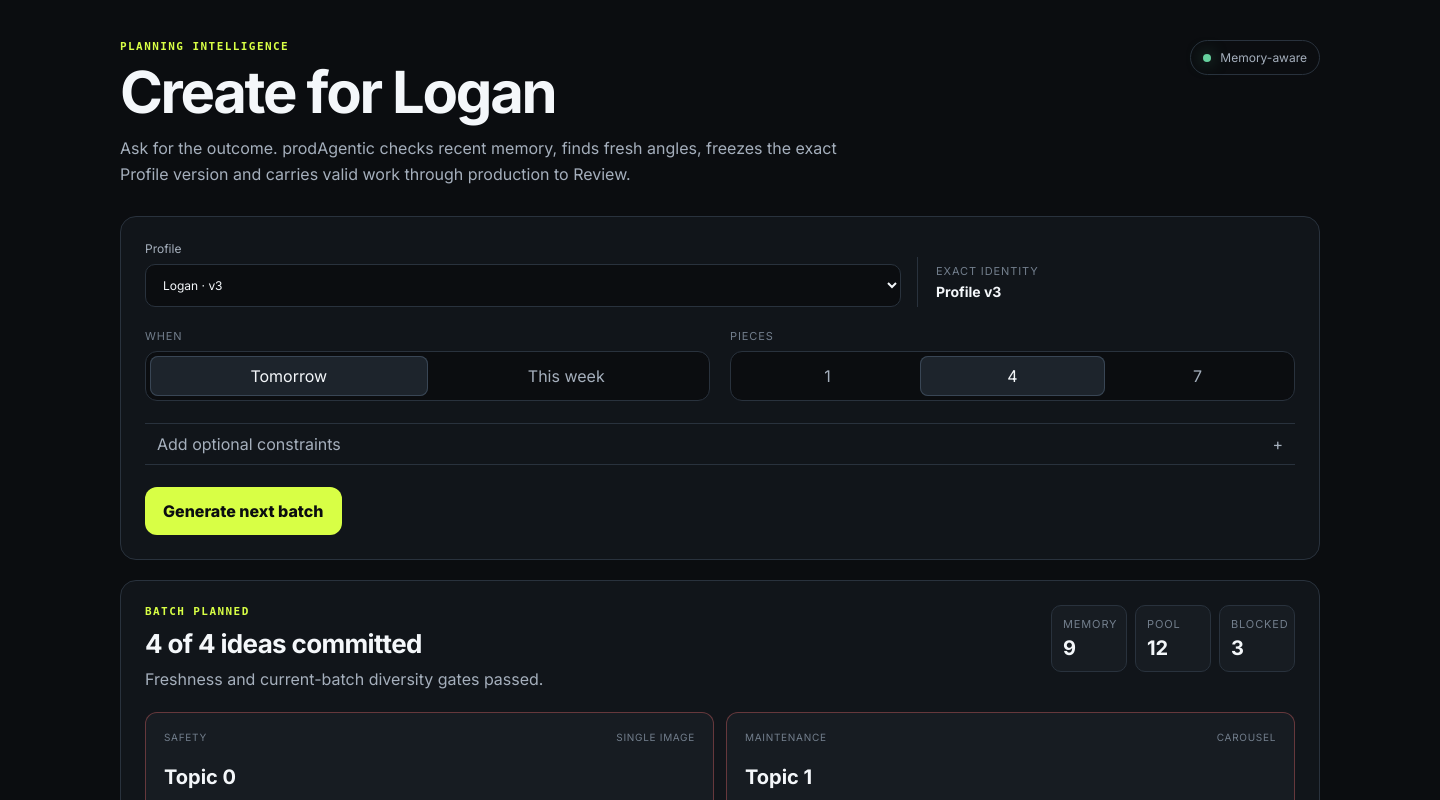
Test case: releases pending state, keeps the server error, and replaces the old misleading global retry with per-piece recovery
Step 1. Click the button "Generate next batch" → (243, 510), box [145,486,342,534]
(page scrolled)
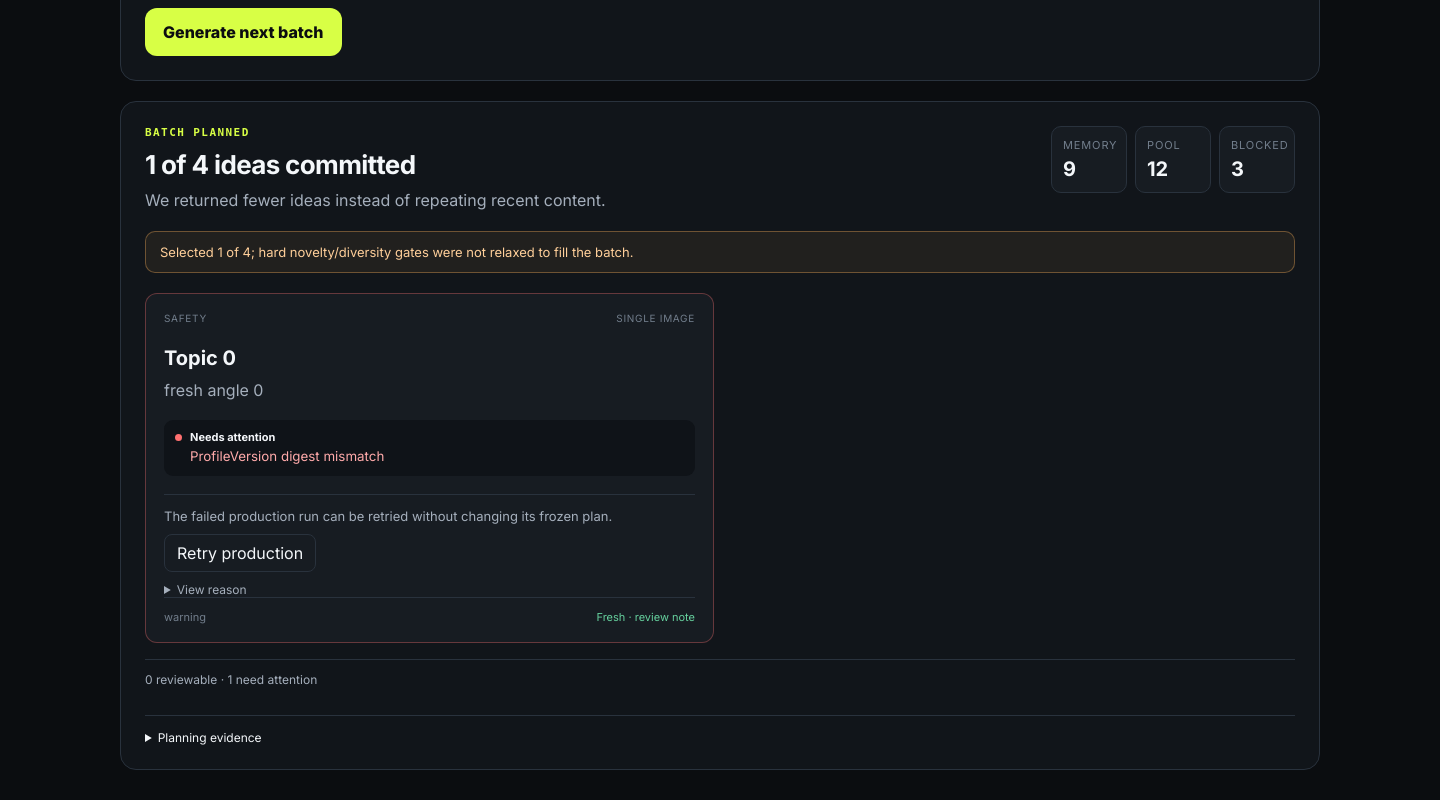
Check: the button "Generate next batch" is enabled, box [145,8,342,56]
Check: the text "ProfileVersion digest mismatch" is shown, box [190,448,384,464]
